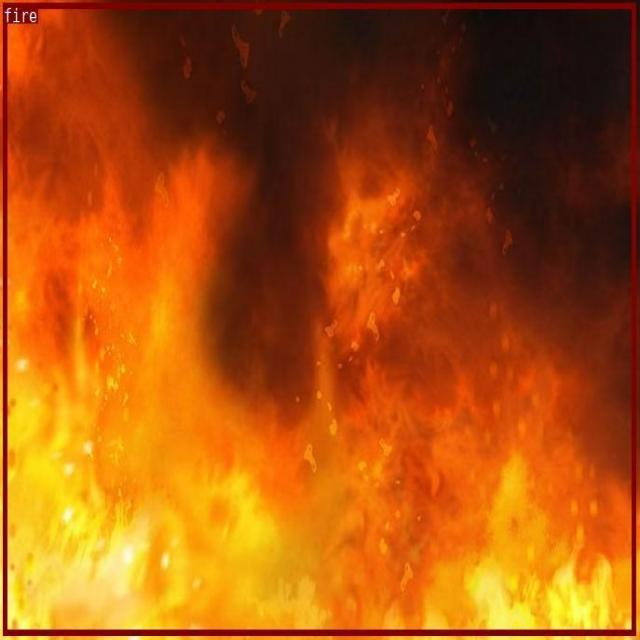fire: (2, 2, 634, 634)
